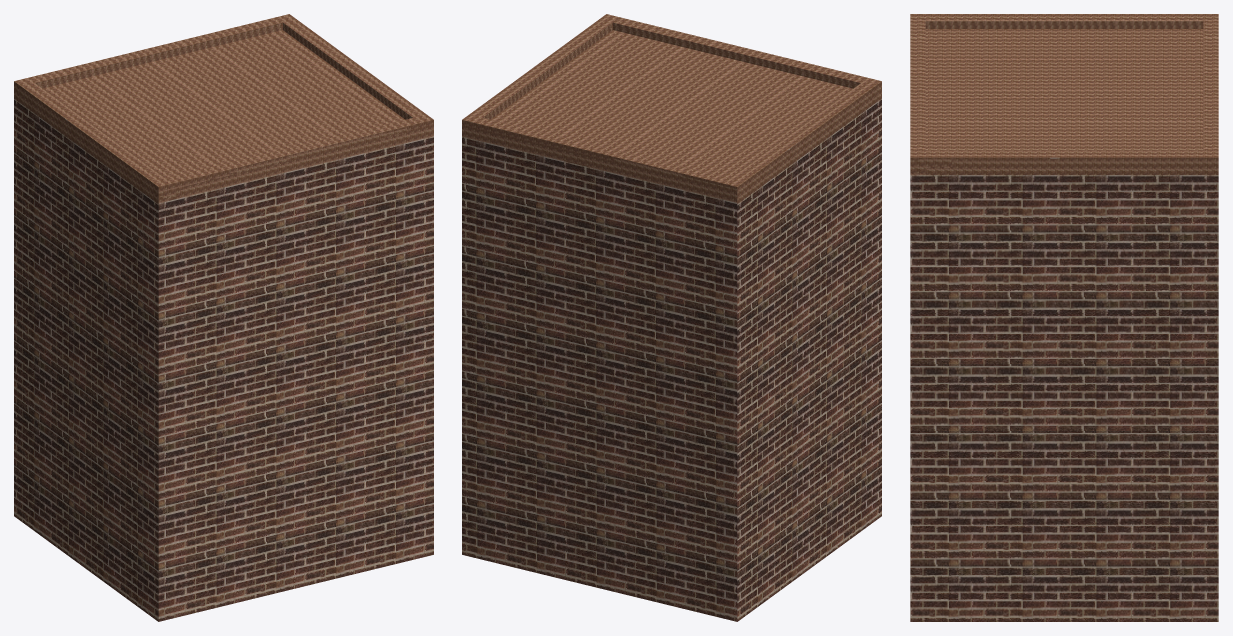
File: Building Platformer.fbx
3 renders of one model, left to right at view 1: azimuth 30°, elevation 25°; view 2: azimuth 150°, elevation 25°; view 3: azimuth 270°, elevation 25°, orthographic. The views are drawn at different scales.
Visible parts, largest first — view 1: pCube1; view 2: pCube1; view 3: pCube1.
Boxes of the visible parts, x1,y1,x2,y2 form: pCube1: [14, 14, 433, 621]; pCube1: [462, 14, 881, 621]; pCube1: [910, 14, 1218, 621].
Bounding box in the file's own units: 9.53 × 14.38 × 8.66.
Materials: 1 (1 with a texture image).
